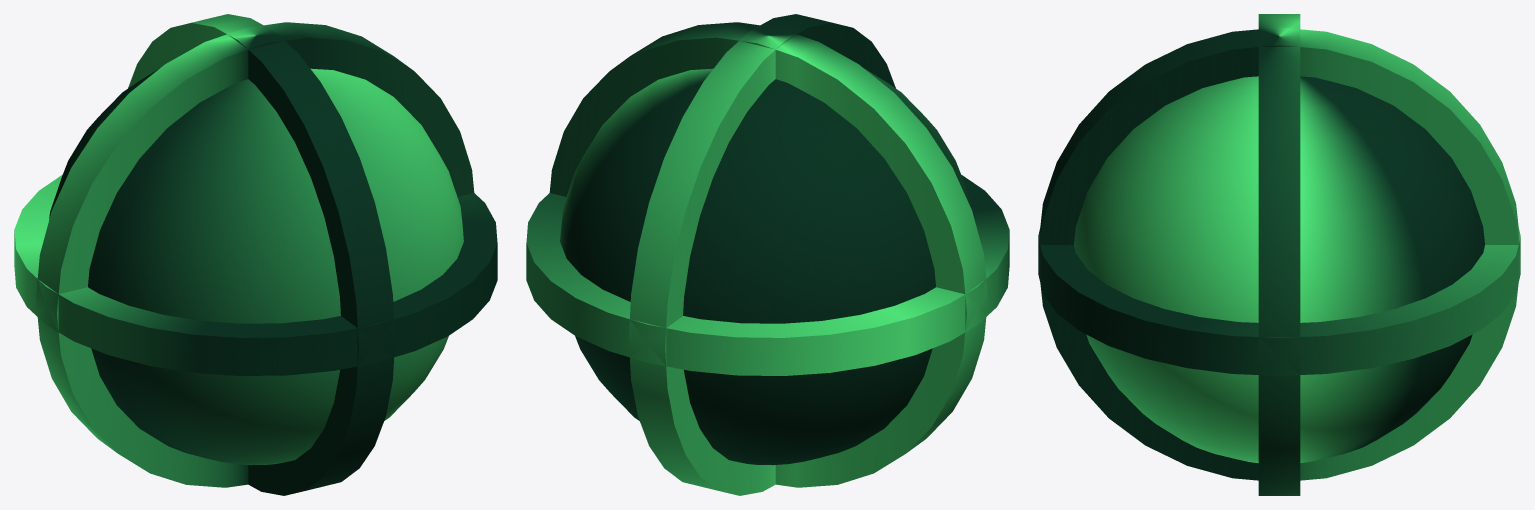
Rendered from Ball-20.dae.
The picture shows the model from 3 angles, left to right: view 1: azimuth 30°, elevation 25°; view 2: azimuth 150°, elevation 25°; view 3: azimuth 270°, elevation 25°; orthographic projection.
Parts seen in each view (by area): view 1: Ball; view 2: Ball; view 3: Ball.
Part boxes in pixels (<box>): Ball: <box>14,14,497,495</box>; Ball: <box>526,14,1009,495</box>; Ball: <box>1038,14,1520,495</box>.
Bounding box in the file's own units: 0.046 × 0.046 × 0.046.
Materials: 2 (2 with a texture image).
